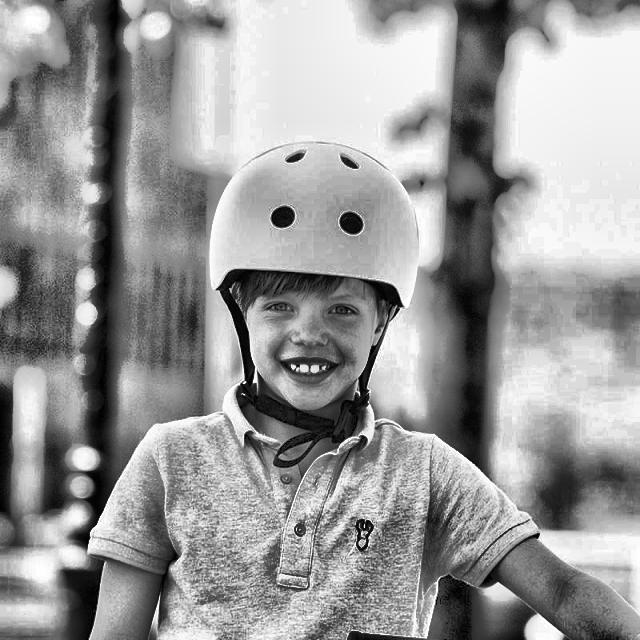Helmet: (207, 135, 420, 474)
